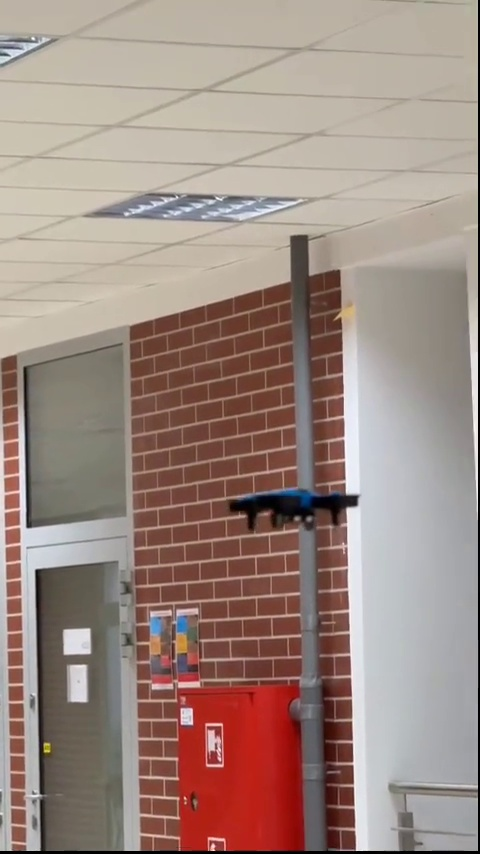drone: (229, 487, 365, 527)
